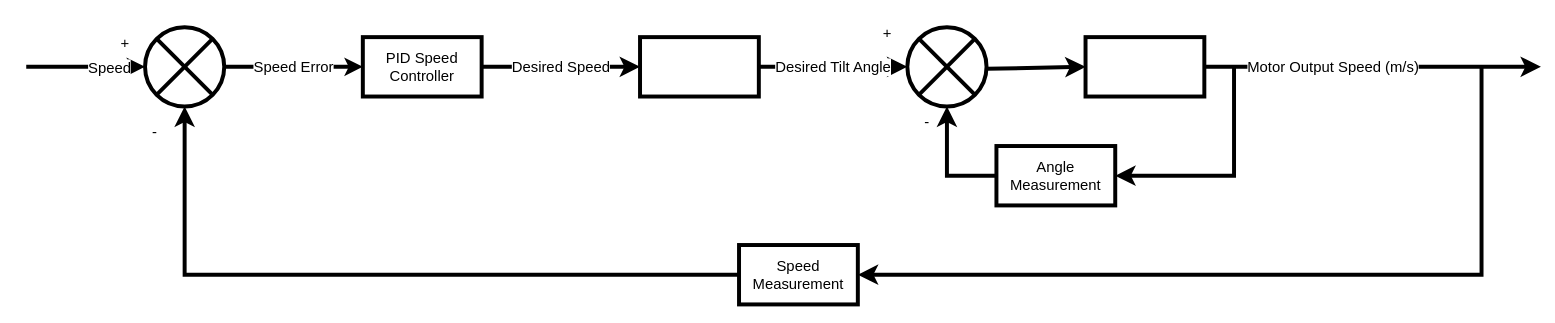
Image size: 1555x323. Some labels were removed from this diagram. The centre of each missing label's shape, as x and y in pixels:
"PID Angle Controller" goes at (1144,66).
"Speed to Angle Dynamics" goes at (699,66).
